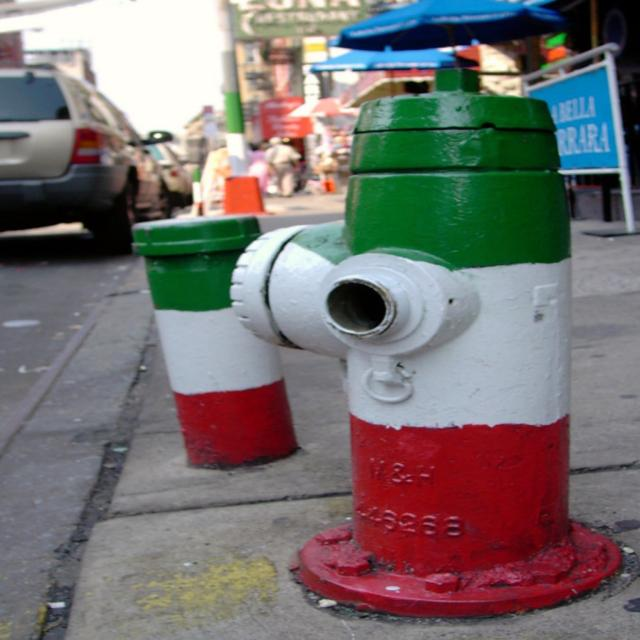fire_hydrant: (226, 65, 623, 618), (227, 64, 625, 614)
